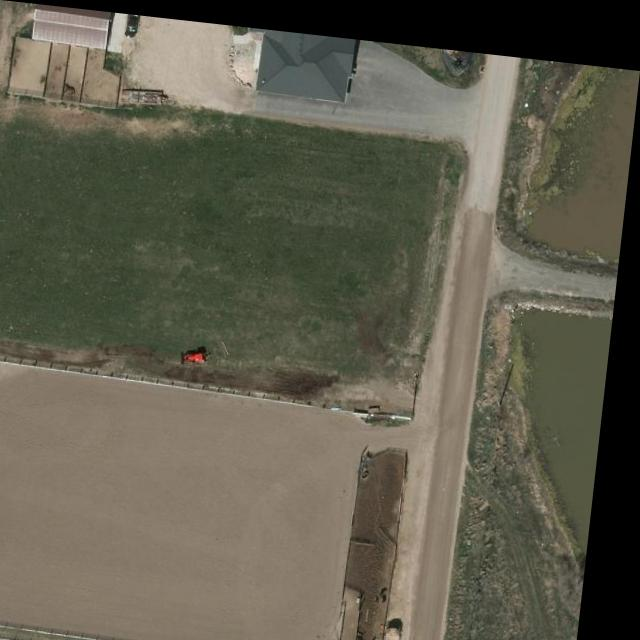vehicle: (126, 11, 140, 36)
